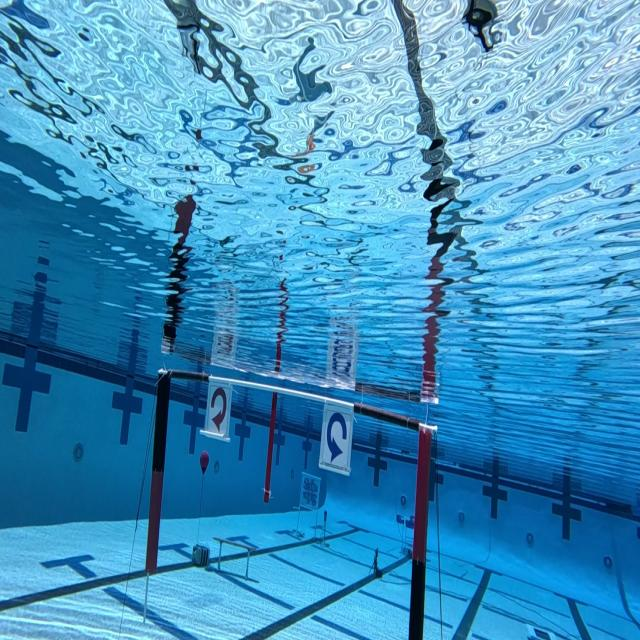blue_side: (320, 400, 352, 473)
red_side: (205, 382, 233, 442)
